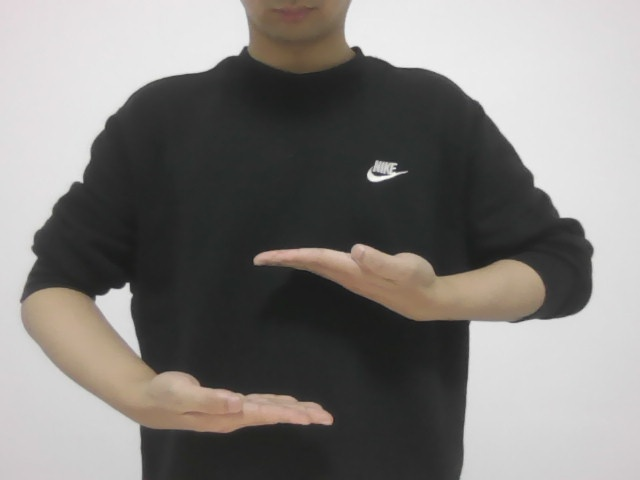happy: (129, 223, 443, 439)
